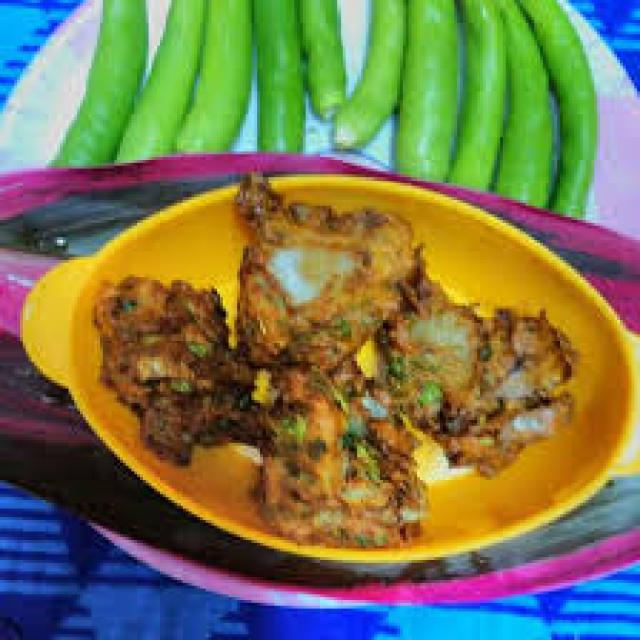BAJI: (99, 178, 574, 551)
